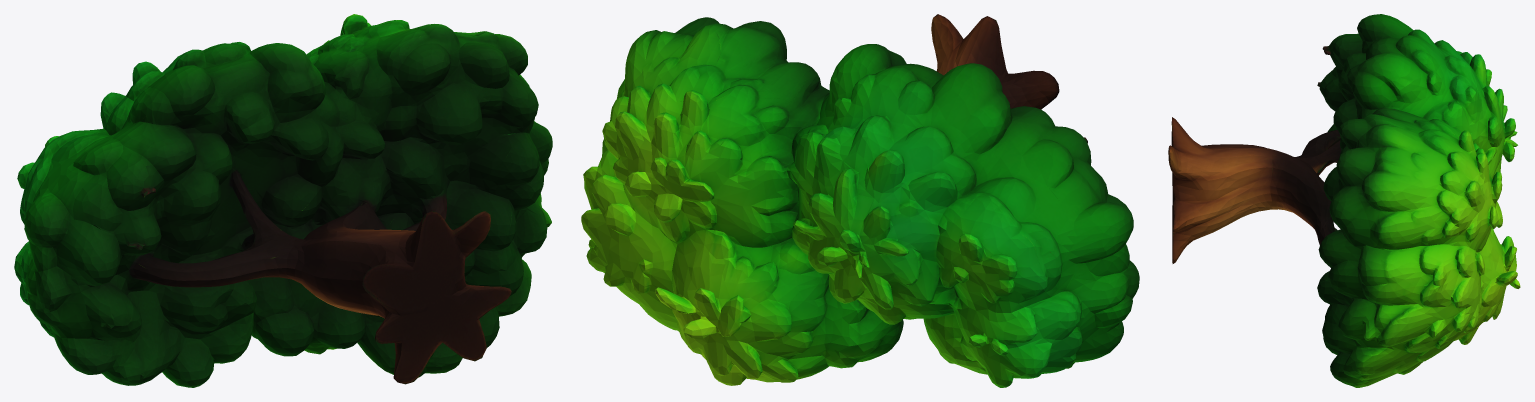
Rendered from Tree.glb.
3 renders of one model, left to right at view 1: azimuth 30°, elevation 25°; view 2: azimuth 150°, elevation 25°; view 3: azimuth 270°, elevation 25°, orthographic. The views are drawn at different scales.
Parts seen in each view (by area): view 1: world; view 2: world; view 3: world.
Boxes of the visible parts, <box> form: world: <box>14,14,552,387</box>; world: <box>581,14,1139,387</box>; world: <box>1168,14,1520,387</box>.
Bounding box in the file's own units: 1 × 0.6501 × 0.746.
Materials: 1 (1 with a texture image).
